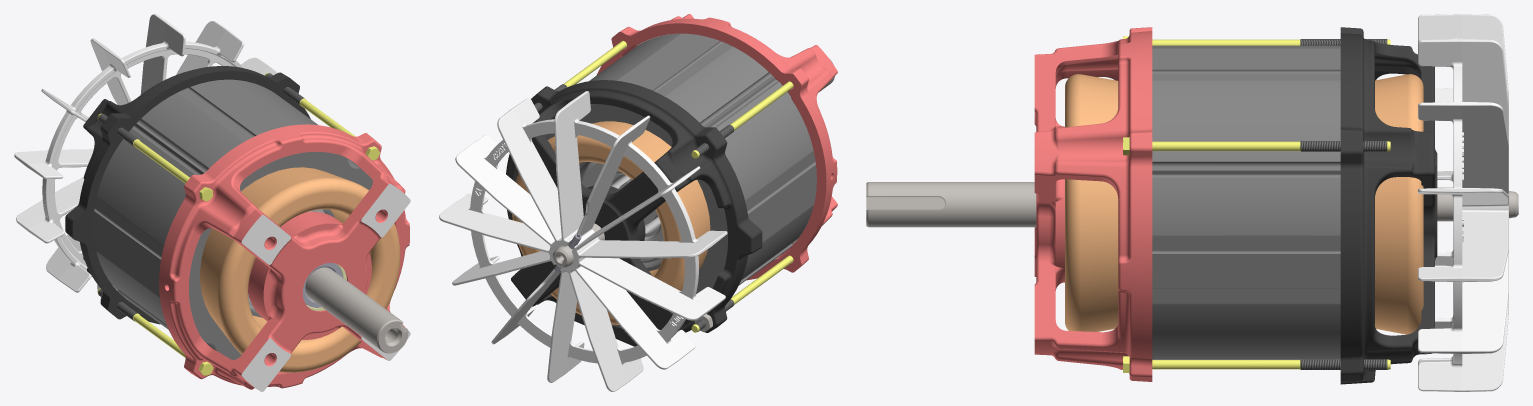
3 renders of one model, left to right at view 1: azimuth 30°, elevation 25°; view 2: azimuth 150°, elevation 25°; view 3: azimuth 270°, elevation 25°, orthographic. The views are drawn at different scales.
Visible parts, largest first — view 1: cast iron, texture, color, White-PW-MT11050, cast iron-2, color-3, polished steel, color-8, texture-3, texture-2; view 2: White-PW-MT11050, texture, cast iron-2, cast iron, color, color-8, color-2, polished steel, texture-3; view 3: texture, cast iron, White-PW-MT11050, cast iron-2, color, polished steel, color-8, texture-3.
Part boxes in pixels (left/top/right/bottom): cast iron: left=159, top=124, right=409, bottom=391; texture: left=93, top=79, right=372, bottom=359; color: left=200, top=167, right=400, bottom=372; White-PW-MT11050: left=14, top=14, right=277, bottom=292; cast iron-2: left=65, top=66, right=310, bottom=324; color-3: left=241, top=184, right=410, bottom=391; polished steel: left=100, top=267, right=408, bottom=353; color-8: left=97, top=73, right=379, bottom=375; texture-3: left=98, top=73, right=304, bottom=320; texture-2: left=302, top=263, right=343, bottom=307; White-PW-MT11050: left=439, top=91, right=727, bottom=391; texture: left=544, top=33, right=816, bottom=293; cast iron-2: left=506, top=80, right=762, bottom=346; cast iron: left=596, top=14, right=837, bottom=280; color: left=512, top=108, right=819, bottom=324; color-8: left=563, top=40, right=793, bottom=332; color-2: left=580, top=162, right=663, bottom=263; polished steel: left=552, top=58, right=834, bottom=332; texture-3: left=534, top=84, right=734, bottom=330; texture: left=1152, top=45, right=1340, bottom=359; cast iron: left=1034, top=27, right=1152, bottom=381; White-PW-MT11050: left=1418, top=14, right=1508, bottom=391; cast iron-2: left=1340, top=27, right=1437, bottom=384; color: left=1065, top=74, right=1423, bottom=334; polished steel: left=866, top=182, right=1518, bottom=227; color-8: left=1123, top=36, right=1390, bottom=372; texture-3: left=1300, top=39, right=1387, bottom=369.
Size of the model in its own units: 0.1675 by 0.1669 by 0.2874.
Materials: 18 (3 with a texture image).
